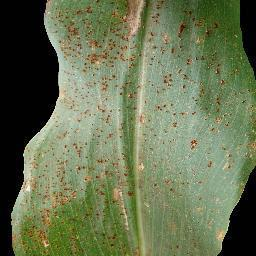Corn_Common_Rust: (40, 0, 158, 256), (156, 0, 256, 256), (9, 128, 41, 256)
